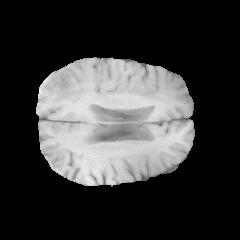glioma: (42, 58, 98, 101)
